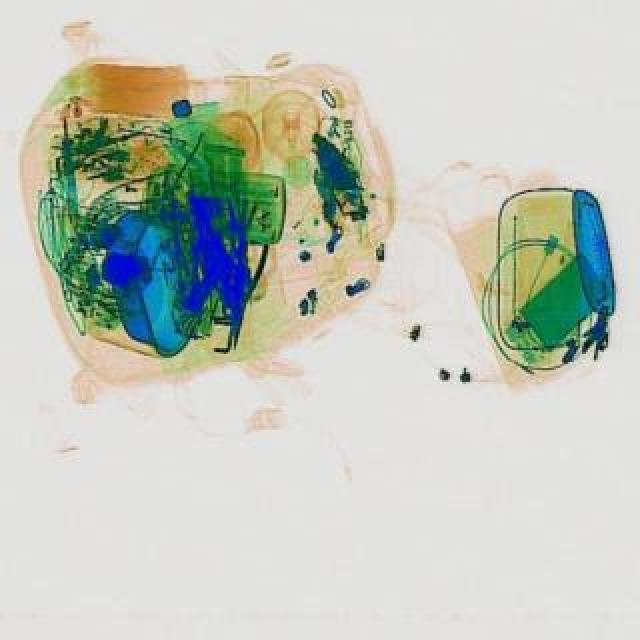wrench: (210, 238, 270, 354)
